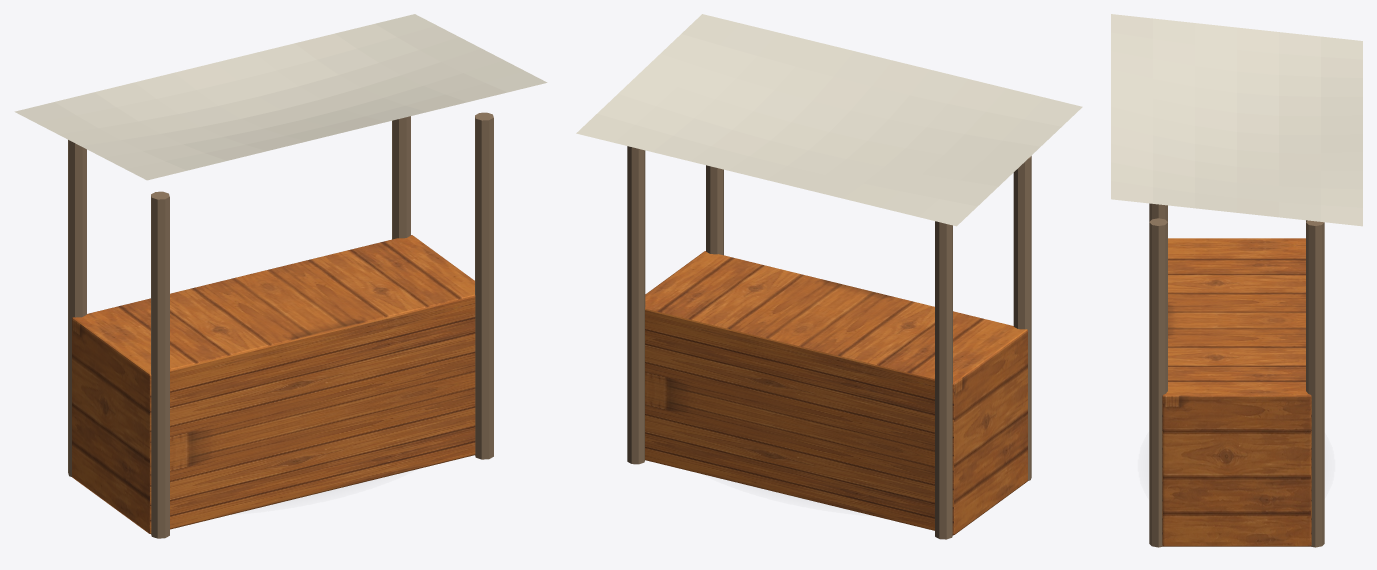
File: stall.glb
3 views of the same model, side by side, from view 1: azimuth 30°, elevation 25°; view 2: azimuth 150°, elevation 25°; view 3: azimuth 270°, elevation 25° (orthographic). The views are drawn at different scales.
Parts seen in each view (by area): view 1: counter, canopy, post.002, post, post.001, post.003; view 2: counter, canopy, post.003, post.001, post, post.002; view 3: canopy, counter, post.002, post.003.
Boxes of the visible parts, x1,y1,x2,y2 form: counter: (72, 235, 475, 533); canopy: (14, 14, 547, 180); post.002: (475, 112, 493, 459); post: (151, 191, 169, 538); post.001: (68, 140, 86, 476); post.003: (392, 116, 410, 239); counter: (645, 251, 1027, 535); canopy: (576, 14, 1082, 226); post.003: (627, 146, 645, 464); post.001: (935, 221, 952, 539); post: (1013, 156, 1031, 480); post.002: (706, 165, 723, 255); canopy: (1111, 14, 1362, 226); counter: (1162, 238, 1311, 546); post.002: (1149, 218, 1167, 547); post.003: (1306, 220, 1324, 547).
Size of the model in its own units: 2.35 by 2.14 by 1.35.
4 materials, 2 textured.
